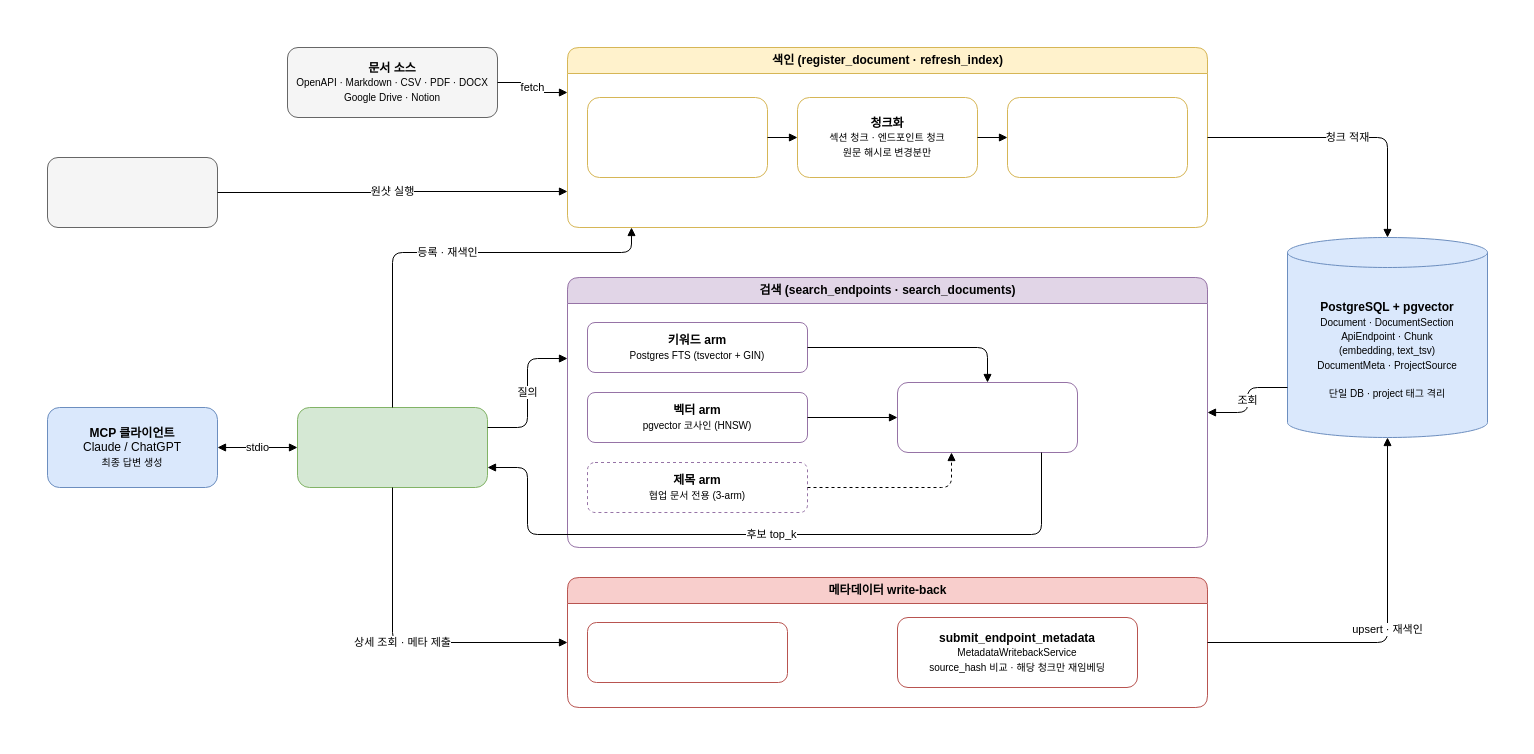
Some shapes in this 1534 by 754 pixel diagram are drawn without their labels. Here are the shapes that lost their labels. From the top down, the centre of each, then its label:
pixel 677 137: 파서 document_router 형식 판별 · 텍스트 추출 OpenAPI/Swagger 구조 파싱
pixel 1097 137: 임베딩 LocalEmbeddingProvider multilingual-e5-small · 384d · CPU
pixel 132 192: systemd timer / cron app.scripts.refresh_documents (advisory lock)
pixel 987 417: RRF 순위 융합 점수 대신 등수만 사용 rrf.py
pixel 392 447: MCP 서버 app/mcp/server.py fastmcp · 도구 17개
pixel 687 652: get_endpoint_details missing/stale 시 metadata_request 동봉
